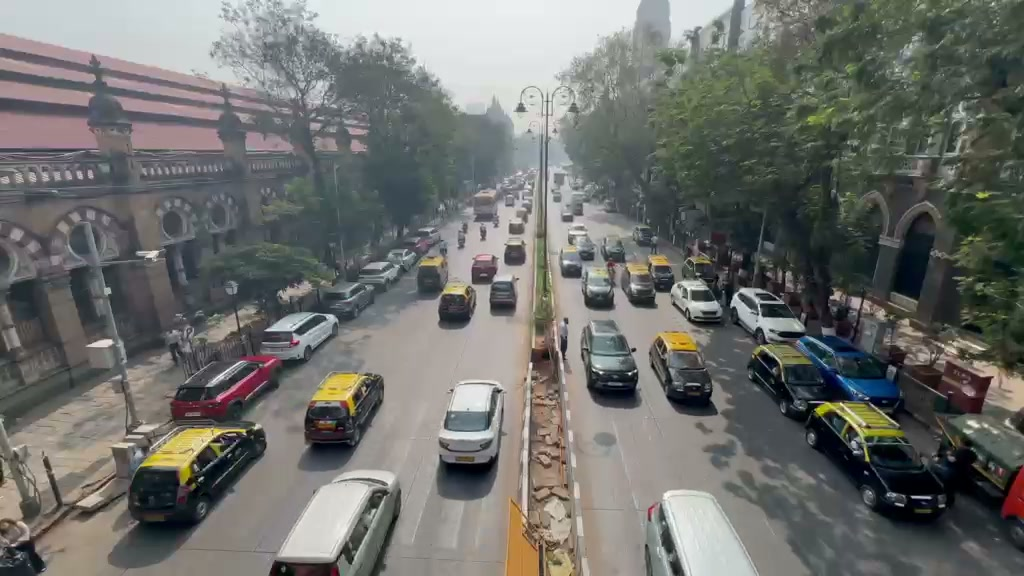bus: (643, 489, 761, 575)
car: (127, 423, 268, 525), (267, 469, 402, 574), (746, 339, 863, 422), (797, 334, 904, 414), (170, 353, 283, 421), (303, 370, 385, 447), (436, 379, 505, 467), (648, 329, 714, 403), (581, 317, 639, 394), (730, 287, 808, 343), (257, 311, 340, 363), (317, 278, 376, 321), (670, 279, 724, 325), (999, 463, 1024, 551), (437, 280, 477, 327), (581, 264, 615, 308), (357, 258, 401, 289), (488, 278, 518, 315)
truck: (803, 399, 954, 520)
